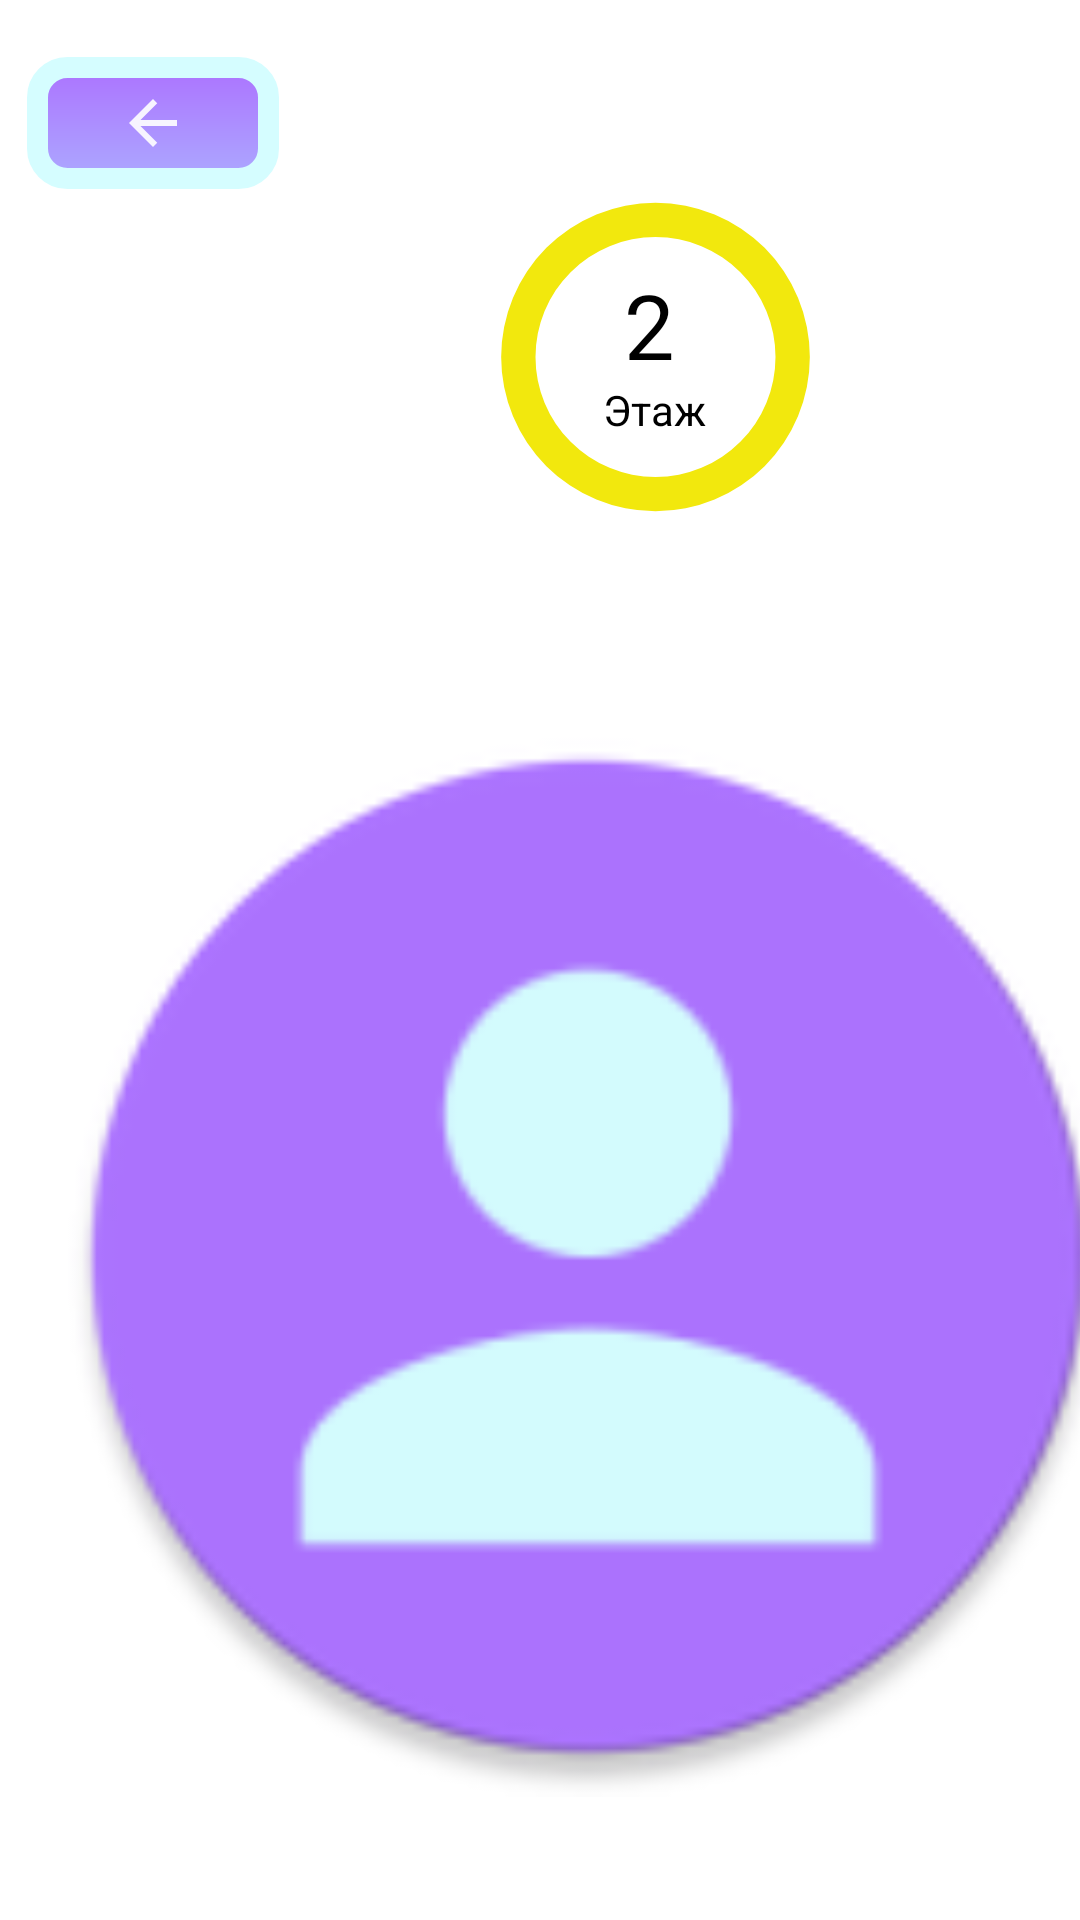

Point at icon controls on the screen. Image size 1080*1920, points as [x,y].
arrow back: [153,123]
